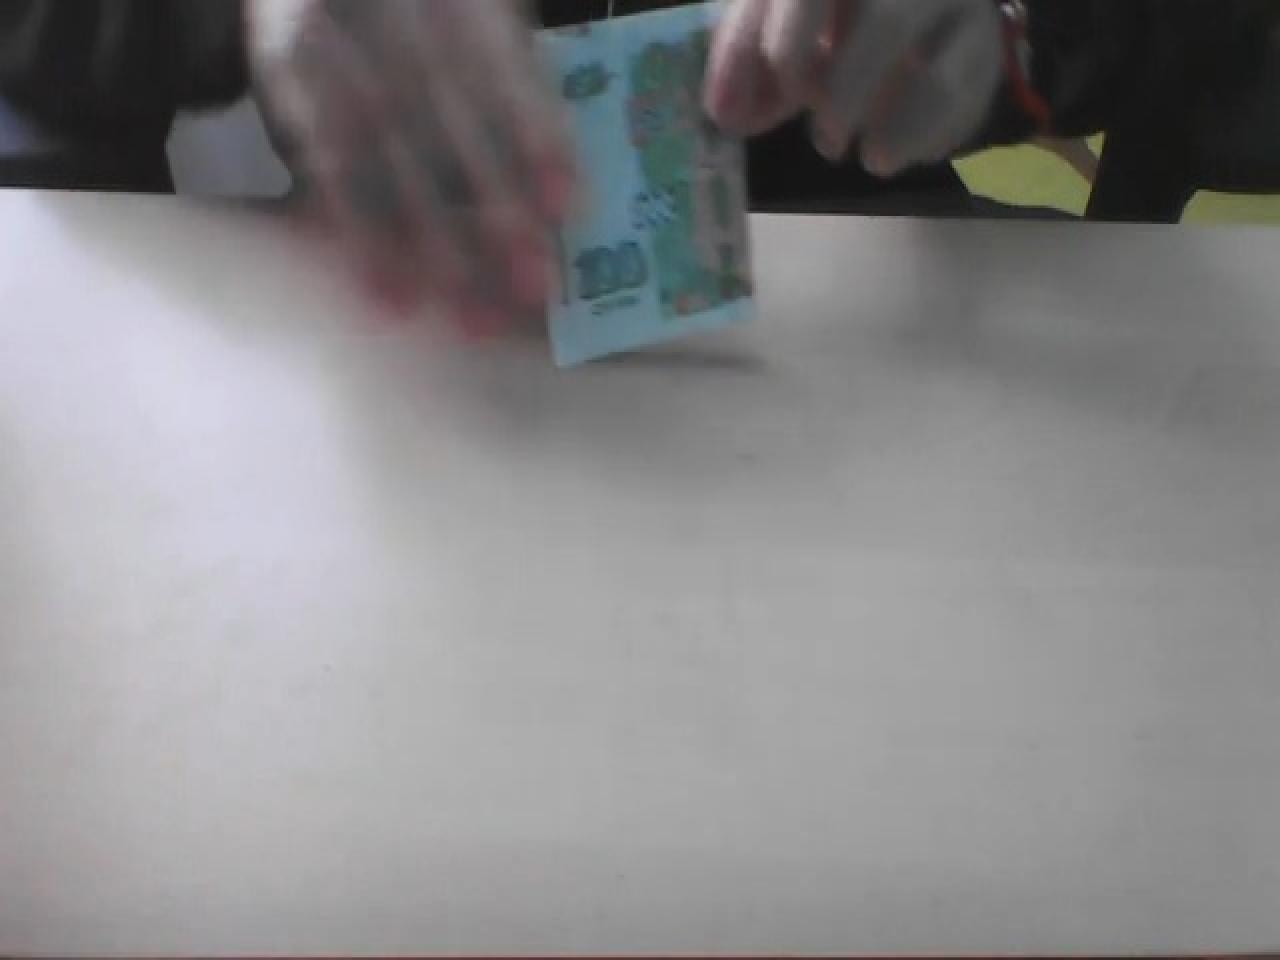100leva: (530, 0, 756, 371)
